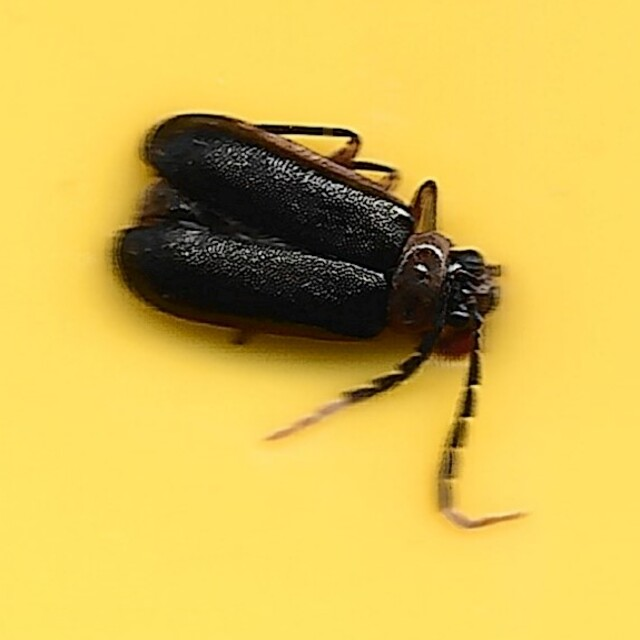Coleoptera: (111, 110, 529, 530)
